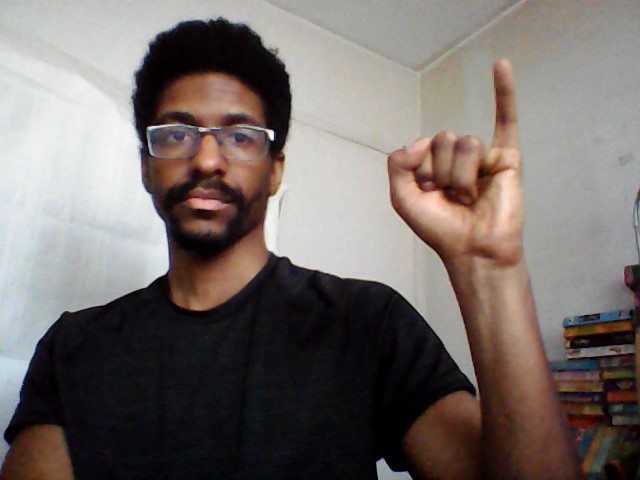i: (381, 53, 531, 264)
